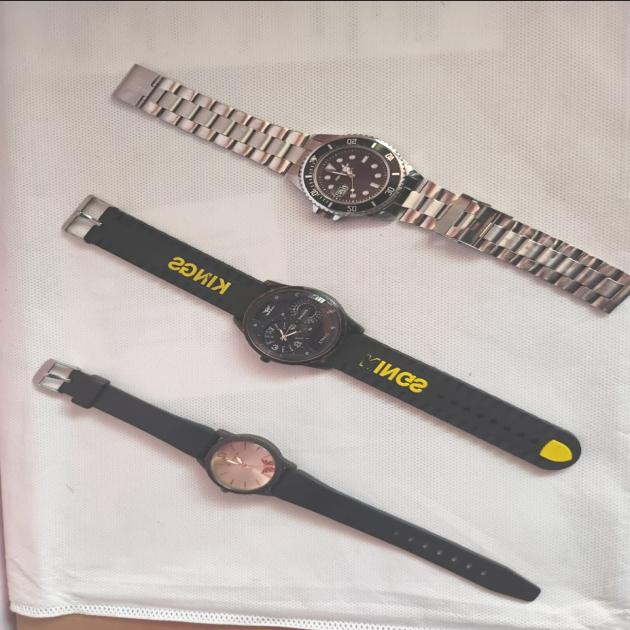wristwatch: (75, 185, 611, 474), (38, 354, 548, 630), (123, 45, 630, 300)
